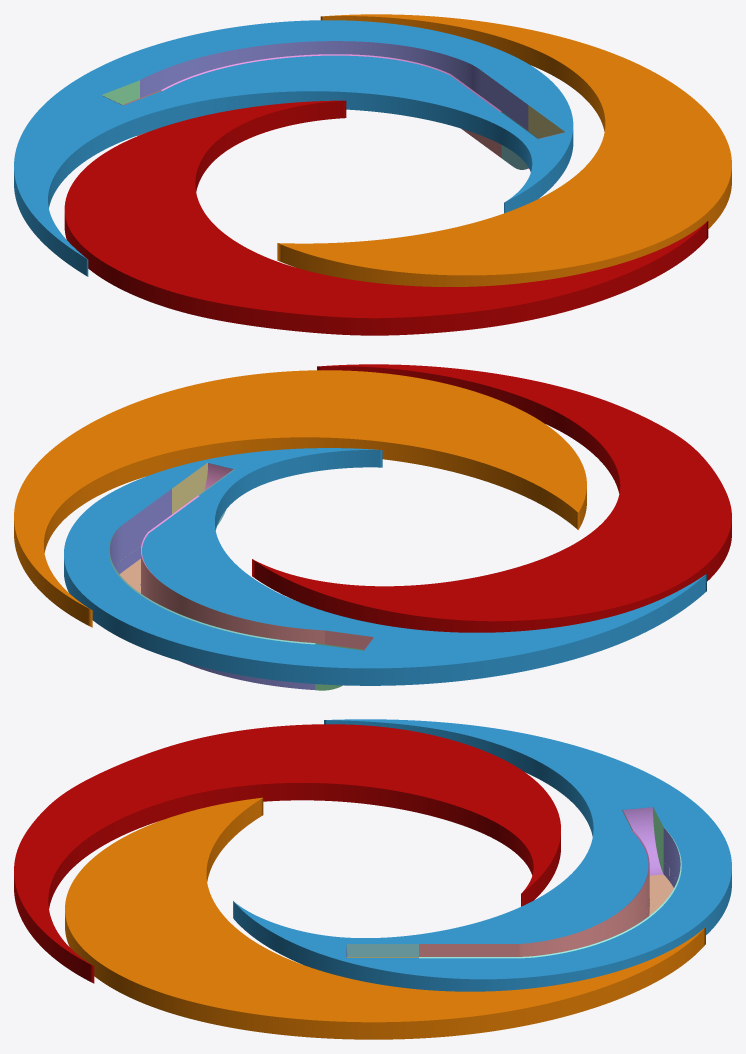
File: corridor-ribbons-balanced.glb
The picture shows the model from 3 angles, top to bottom: view 1: azimuth 30°, elevation 25°; view 2: azimuth 150°, elevation 25°; view 3: azimuth 270°, elevation 25°; orthographic projection.
Visible parts, largest first — view 1: Swoosh • Red.001, Swoosh • Orange.001, Swoosh • Blue.001, Red corridor wall • separate from logo.001, FIX | Capped Connecting plane • joins yellow tip.001, Slide A | Behind theatre marked end | Side 1.001, Slide B | Opposite corridor end | Side -1.001; view 2: Swoosh • Orange.001, Swoosh • Blue.001, Swoosh • Red.001, Connecting plane • joins yellow tip.001, Red corridor wall • separate from logo.001, Slide A | Behind theatre marked end | Side 1.001, Slide B | Opposite corridor end | Side 1.001; view 3: Swoosh • Orange.001, Swoosh • Red.001, Swoosh • Blue.001, Connecting plane • joins yellow tip.001, Slide B | Opposite corridor end.001, Slide A | Behind theatre marked end | Side -1.001, Red corridor wall • separate from logo.001, Plain floor • red to connecting plane.001, FIX | Capped Red corridor wall • separate from logo.001.
Part boxes in pixels (x1,y1,x2,y2): Swoosh • Red.001: (64,100,708,335); Swoosh • Orange.001: (277,14,731,286); Swoosh • Blue.001: (14,20,573,276); Red corridor wall • separate from logo.001: (140,41,528,130); FIX | Capped Connecting plane • joins yellow tip.001: (161,54,501,112); Slide A | Behind theatre marked end | Side 1.001: (528,105,564,138); Slide B | Opposite corridor end | Side -1.001: (102,80,139,104); Swoosh • Orange.001: (14,370,586,627); Swoosh • Blue.001: (64,448,706,685); Swoosh • Red.001: (252,364,731,632); Connecting plane • joins yellow tip.001: (141,554,324,644); Red corridor wall • separate from logo.001: (110,489,315,689); Slide A | Behind theatre marked end | Side 1.001: (172,462,207,513); Slide B | Opposite corridor end | Side 1.001: (325,630,373,650); Swoosh • Orange.001: (65,797,705,1039); Swoosh • Red.001: (14,724,560,983); Swoosh • Blue.001: (233,719,731,991); Connecting plane • joins yellow tip.001: (419,867,649,956); Slide B | Opposite corridor end.001: (623,807,663,875); Slide A | Behind theatre marked end | Side -1.001: (346,944,418,956); Red corridor wall • separate from logo.001: (663,827,680,887); Plain floor • red to connecting plane.001: (649,874,673,915); FIX | Capped Red corridor wall • separate from logo.001: (419,828,681,958).
Bounding box in the file's own units: 399 × 28.91 × 400.
